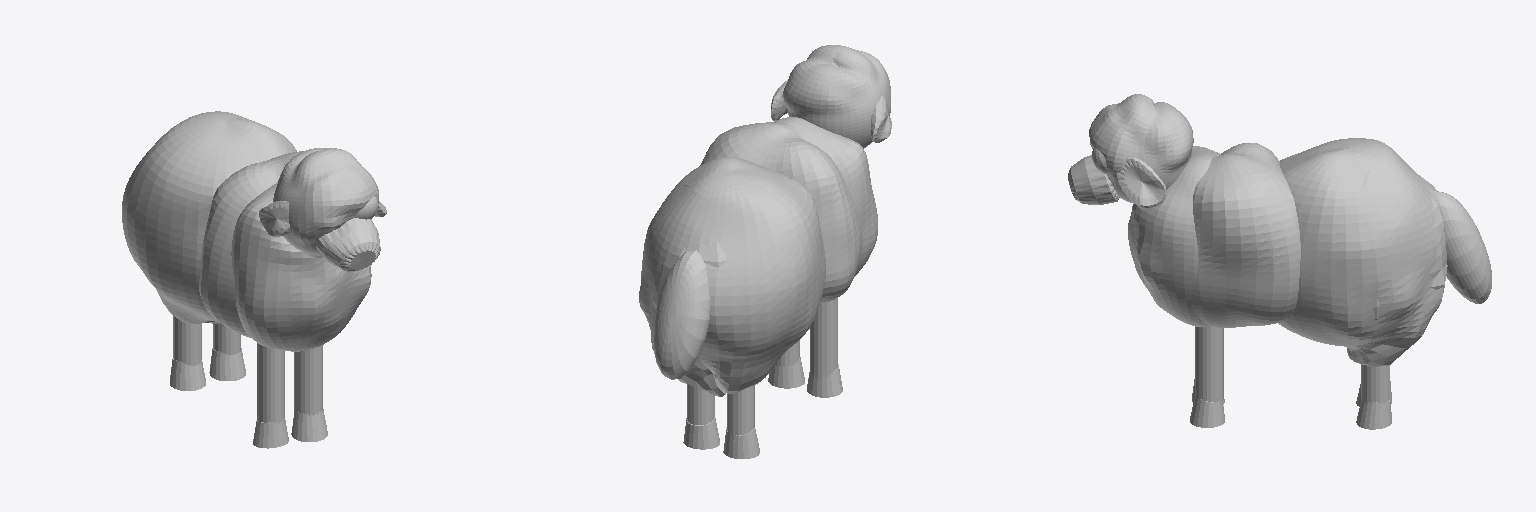
The model's file is SHEEEEEEEP.obj.
3 renders of one model, left to right at view 1: azimuth 30°, elevation 25°; view 2: azimuth 150°, elevation 25°; view 3: azimuth 270°, elevation 25°, orthographic.
Visible parts, largest first — view 1: SheepMud:pSphere4_0, SheepMud:pSphere6_0, SheepMud:pSphere5_0, SheepMud:pSphere1_0, SheepMud:pCylinder5_0, SheepMud:pCylinder2_0, SheepMud:pCylinder1_0, SheepMud:pCylinder3_0, SheepMud:pCylinder9_0, SheepMud:pCylinder10_0, SheepMud:pCylinder8_0, SheepMud:pCylinder6_0 (+2 smaller); view 2: SheepMud:pSphere4_0, SheepMud:pSphere1_0, SheepMud:pSphere5_0, SheepMud:pSphere3_0, SheepMud:pSphere6_0, SheepMud:pCylinder2_0, SheepMud:pCylinder3_0, SheepMud:pSphere7_0, SheepMud:pCylinder4_0, SheepMud:pCylinder9_0, SheepMud:pCylinder8_0, SheepMud:pCylinder10_0 (+2 smaller); view 3: SheepMud:pSphere4_0, SheepMud:pSphere1_0, SheepMud:pSphere6_0, SheepMud:pSphere5_0, SheepMud:pSphere3_0, SheepMud:pCylinder1_0, SheepMud:pCylinder7_0, SheepMud:pCylinder5_0, SheepMud:pSphere7_0, SheepMud:pCylinder4_0, SheepMud:pCylinder9_0, SheepMud:pCylinder10_0.
Boxes of the visible parts, x1,y1,x2,y2 form: SheepMud:pSphere4_0: [122, 111, 296, 325]; SheepMud:pSphere6_0: [231, 182, 371, 351]; SheepMud:pSphere5_0: [273, 148, 378, 257]; SheepMud:pSphere1_0: [199, 151, 302, 337]; SheepMud:pCylinder5_0: [315, 218, 380, 271]; SheepMud:pCylinder2_0: [257, 343, 284, 423]; SheepMud:pCylinder1_0: [294, 345, 322, 415]; SheepMud:pCylinder3_0: [173, 315, 201, 365]; SheepMud:pCylinder9_0: [209, 348, 245, 380]; SheepMud:pCylinder10_0: [291, 409, 327, 441]; SheepMud:pCylinder8_0: [170, 358, 205, 390]; SheepMud:pCylinder6_0: [259, 201, 289, 236]; SheepMud:pSphere4_0: [639, 157, 825, 396]; SheepMud:pSphere1_0: [700, 122, 862, 303]; SheepMud:pSphere5_0: [783, 45, 890, 148]; SheepMud:pSphere3_0: [654, 250, 709, 379]; SheepMud:pSphere6_0: [774, 117, 877, 275]; SheepMud:pCylinder2_0: [810, 298, 837, 376]; SheepMud:pCylinder3_0: [727, 385, 754, 435]; SheepMud:pSphere7_0: [652, 182, 725, 322]; SheepMud:pCylinder4_0: [687, 384, 714, 424]; SheepMud:pCylinder9_0: [683, 418, 719, 449]; SheepMud:pCylinder8_0: [723, 427, 759, 458]; SheepMud:pCylinder10_0: [768, 357, 804, 388]; SheepMud:pSphere4_0: [1278, 138, 1446, 367]; SheepMud:pSphere1_0: [1191, 143, 1300, 327]; SheepMud:pSphere6_0: [1128, 146, 1220, 326]; SheepMud:pSphere5_0: [1089, 94, 1193, 203]; SheepMud:pSphere3_0: [1432, 191, 1491, 303]; SheepMud:pCylinder1_0: [1195, 326, 1223, 402]; SheepMud:pCylinder7_0: [1117, 157, 1166, 207]; SheepMud:pCylinder5_0: [1068, 155, 1119, 204]; SheepMud:pSphere7_0: [1364, 171, 1447, 319]; SheepMud:pCylinder4_0: [1361, 364, 1389, 402]; SheepMud:pCylinder9_0: [1356, 399, 1391, 429]; SheepMud:pCylinder10_0: [1190, 397, 1224, 427].
Bounding box in the file's own units: 1.25 × 2.34 × 2.87.